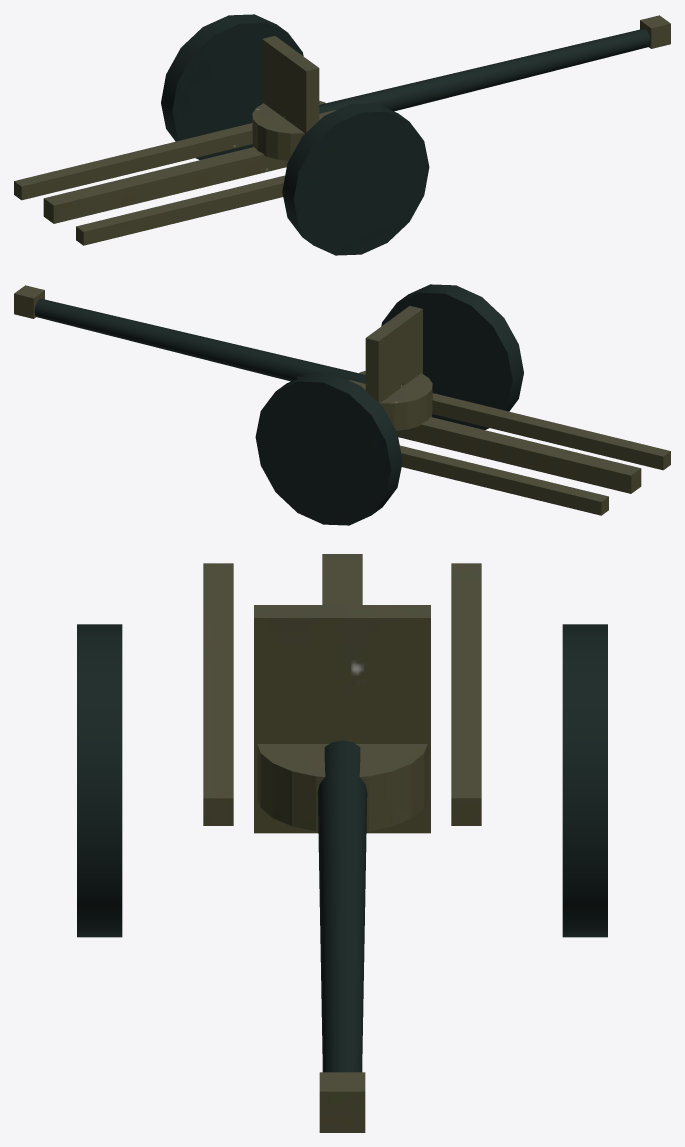
File: type38-75mm-field-gun.glb
3 renders of one model, top to bottom at view 1: azimuth 30°, elevation 25°; view 2: azimuth 150°, elevation 25°; view 3: azimuth 270°, elevation 25°, orthographic. The views are drawn at different scales.
Visible parts, largest first — view 1: Carriage, WheelR, WheelL, Barrel, Train, Nose; view 2: Carriage, WheelL, WheelR, Barrel, Train, Nose; view 3: Carriage, Barrel, WheelL, WheelR, Train, Nose.
Part boxes in pixels (x1,y1,x2,y2): Carriage: (14,36,319,245); WheelR: (282,103,429,255); WheelL: (161,14,303,159); Barrel: (319,28,650,113); Train: (252,101,335,160); Nose: (640,15,670,48); Carriage: (365,306,670,515); WheelL: (255,373,402,525); WheelR: (381,284,523,429); Barrel: (34,298,365,383); Train: (349,371,432,430); Nose: (14,285,44,318); Carriage: (203,554,481,833); Barrel: (317,740,367,1072); WheelL: (562,624,607,937); WheelR: (77,624,122,937); Train: (257,744,427,831); Nose: (319,1072,365,1132).
Size of the model in its own units: 5.63 by 1.34 by 2.1.
Materials: 1 (1 with a texture image).
